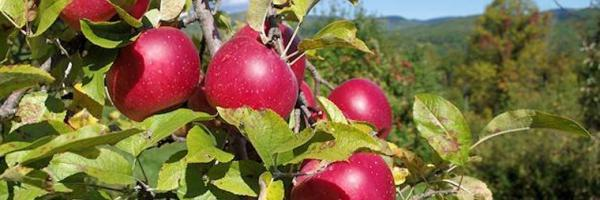apple: (202, 24, 300, 122), (105, 27, 201, 121), (289, 154, 396, 197), (326, 75, 393, 134)
